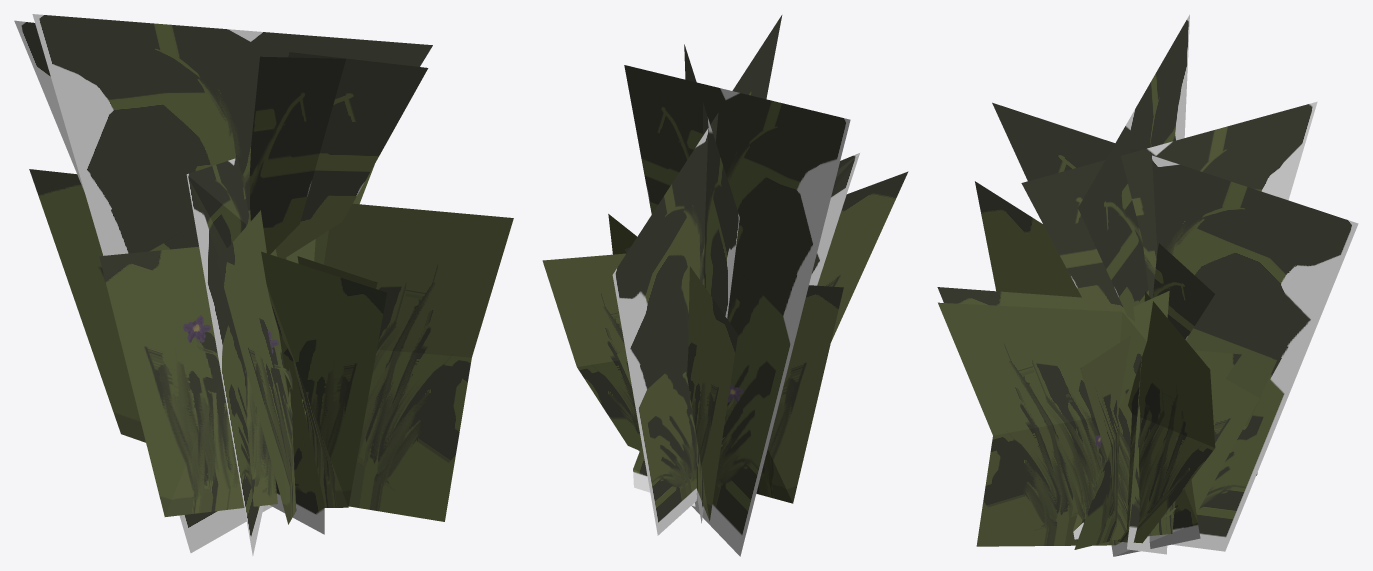
File: shared_green_grassflower_00.fbx
3 views of the same model, side by side, from view 1: azimuth 30°, elevation 25°; view 2: azimuth 150°, elevation 25°; view 3: azimuth 270°, elevation 25° (orthographic). The views are drawn at different scales.
Visible parts, largest first — view 1: shared_green_grassflower_00; view 2: shared_green_grassflower_00; view 3: shared_green_grassflower_00.
Boxes of the visible parts, box(x1,y1,x2,y2) form: shared_green_grassflower_00: box(14, 14, 513, 555); shared_green_grassflower_00: box(542, 15, 908, 556); shared_green_grassflower_00: box(937, 14, 1358, 556).
Size of the model in its own units: 0.9025 by 1.37 by 1.09.
